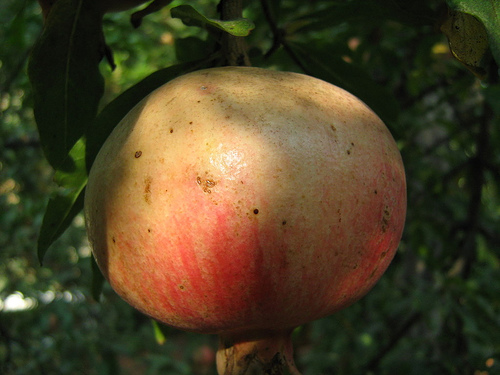pomogranate: (81, 56, 411, 374)
